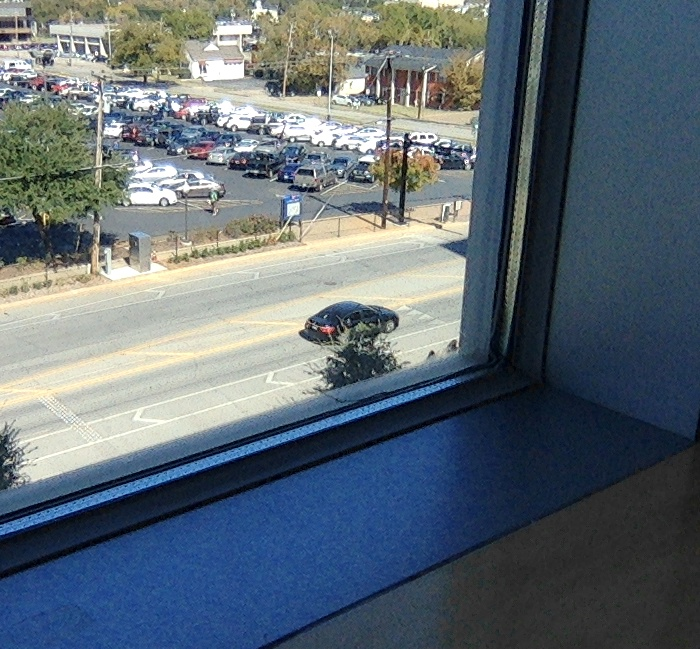car: (300, 300, 400, 349)
